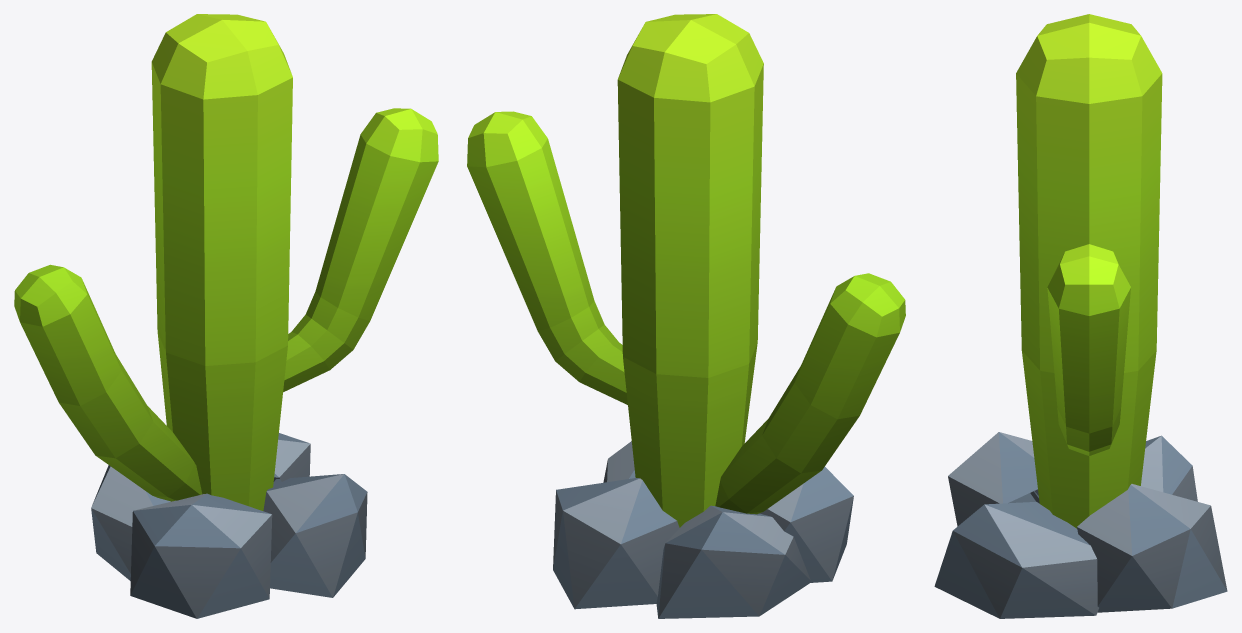
File: cactus_2.fbx
The picture shows the model from 3 angles, left to right: view 1: azimuth 30°, elevation 25°; view 2: azimuth 150°, elevation 25°; view 3: azimuth 270°, elevation 25°; orthographic projection. The views are drawn at different scales.
Parts seen in each view (by area): view 1: Icosphere.002; view 2: Icosphere.002; view 3: Icosphere.002.
Part boxes in pixels (bbox=[...]): Icosphere.002: bbox=[14, 14, 438, 618]; Icosphere.002: bbox=[467, 14, 905, 618]; Icosphere.002: bbox=[934, 14, 1227, 618].
Bounding box in the file's own units: 201 × 247 × 120.
